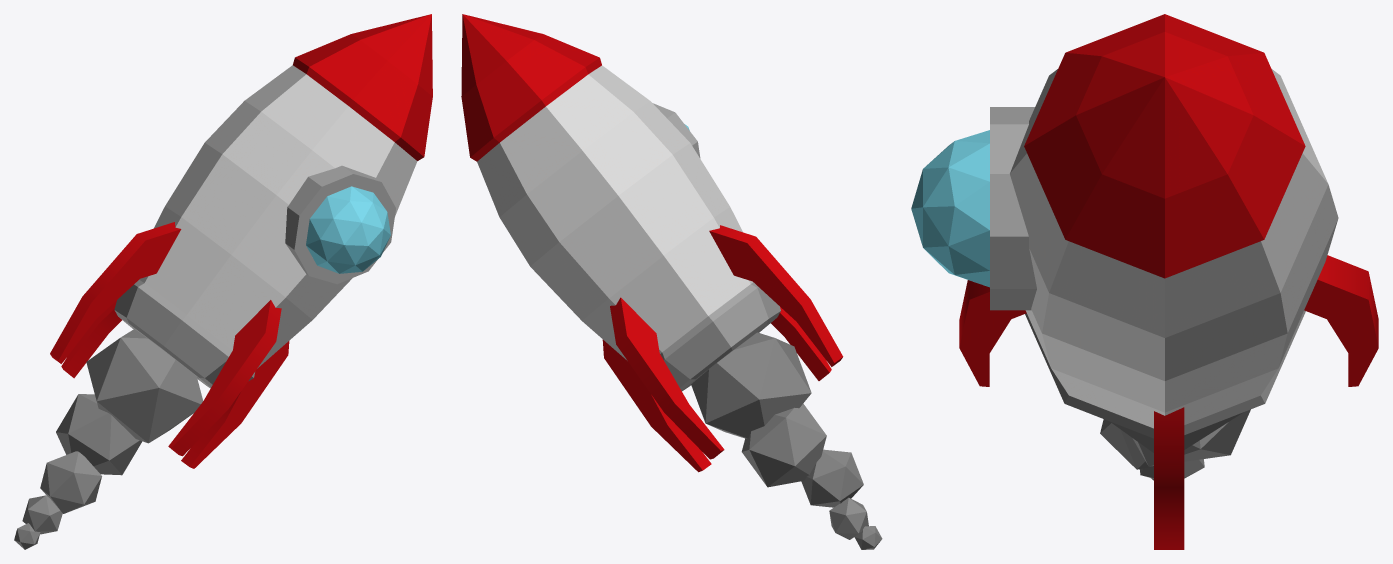
File: rocket_ship_optimized.glb
3 renders of one model, left to right at view 1: azimuth 30°, elevation 25°; view 2: azimuth 150°, elevation 25°; view 3: azimuth 270°, elevation 25°, orthographic. The views are drawn at different scales.
Parts seen in each view (by area): view 1: Rocket Ship 01_Material #28_0, Rocket Ship 01_Material #30_0; view 2: Rocket Ship 01_Material #28_0; view 3: Rocket Ship 01_Material #28_0, Rocket Ship 01_Material #30_0.
Part boxes in pixels (x1,y1,x2,y2): Rocket Ship 01_Material #28_0: (14,14,432,549); Rocket Ship 01_Material #30_0: (306,186,390,273); Rocket Ship 01_Material #28_0: (461,14,882,549); Rocket Ship 01_Material #28_0: (959,14,1378,549); Rocket Ship 01_Material #30_0: (911,130,989,287).
Size of the model in its own units: 1.35 by 1.36 by 0.7714.
2 materials, 2 textured.
